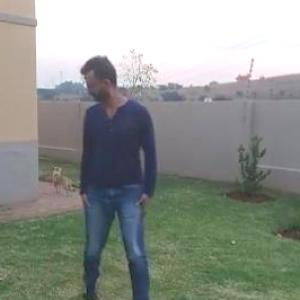follow: (73, 46, 168, 299)
